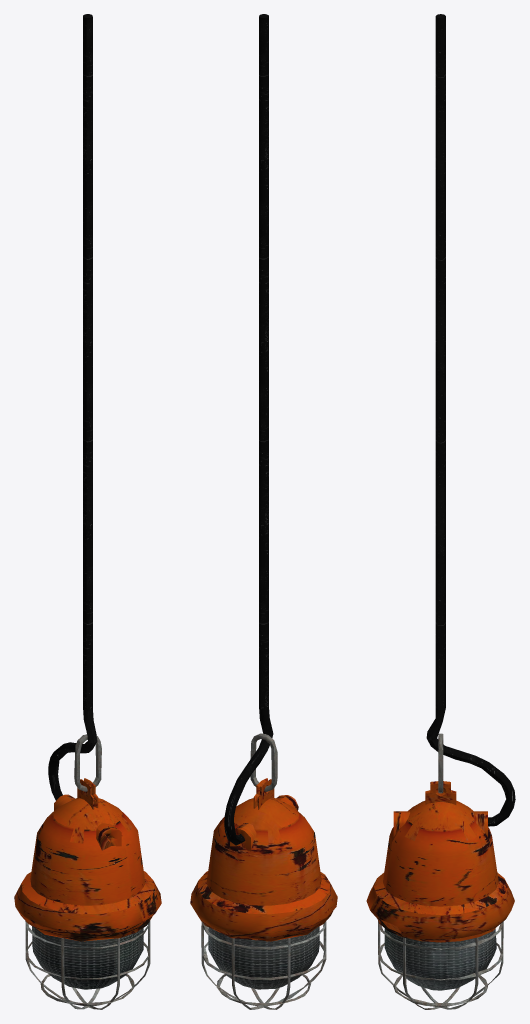
File: light_4.obj
3 views of the same model, side by side, from view 1: azimuth 30°, elevation 25°; view 2: azimuth 150°, elevation 25°; view 3: azimuth 270°, elevation 25° (orthographic).
Parts seen in each view (by area): view 1: sphere, cylinder8, sphere1, cylinder, torus, cylinder1, torus2, torus1; view 2: sphere, cylinder8, sphere1, torus, cylinder, torus1, torus3, cylinder1, torus2; view 3: sphere, cylinder8, sphere1, cylinder1, cylinder, torus1, torus2, torus3.
Boxes of the visible parts, <box> form: sphere: <box>14,798,161,941</box>; cylinder8: <box>48,14,97,800</box>; sphere1: <box>32,926,143,989</box>; cylinder: <box>54,794,121,850</box>; torus: <box>74,734,101,791</box>; cylinder1: <box>77,778,98,809</box>; torus2: <box>40,974,134,1005</box>; torus1: <box>25,941,149,980</box>; sphere: <box>190,798,337,941</box>; cylinder8: <box>224,14,273,845</box>; sphere1: <box>208,926,319,989</box>; torus: <box>250,733,277,791</box>; cylinder: <box>230,795,298,851</box>; torus1: <box>202,941,326,980</box>; torus3: <box>202,921,326,949</box>; cylinder1: <box>253,778,274,809</box>; torus2: <box>216,974,311,1005</box>; sphere: <box>366,800,514,942</box>; cylinder8: <box>426,14,515,826</box>; sphere1: <box>384,928,496,990</box>; cylinder1: <box>425,781,456,804</box>; cylinder: <box>393,811,487,836</box>; torus1: <box>378,942,503,980</box>; torus2: <box>393,975,487,1006</box>; torus3: <box>378,923,502,949</box>.
Size of the model in its own units: 16.95 by 125 by 17.03.
4 materials, 4 textured.
